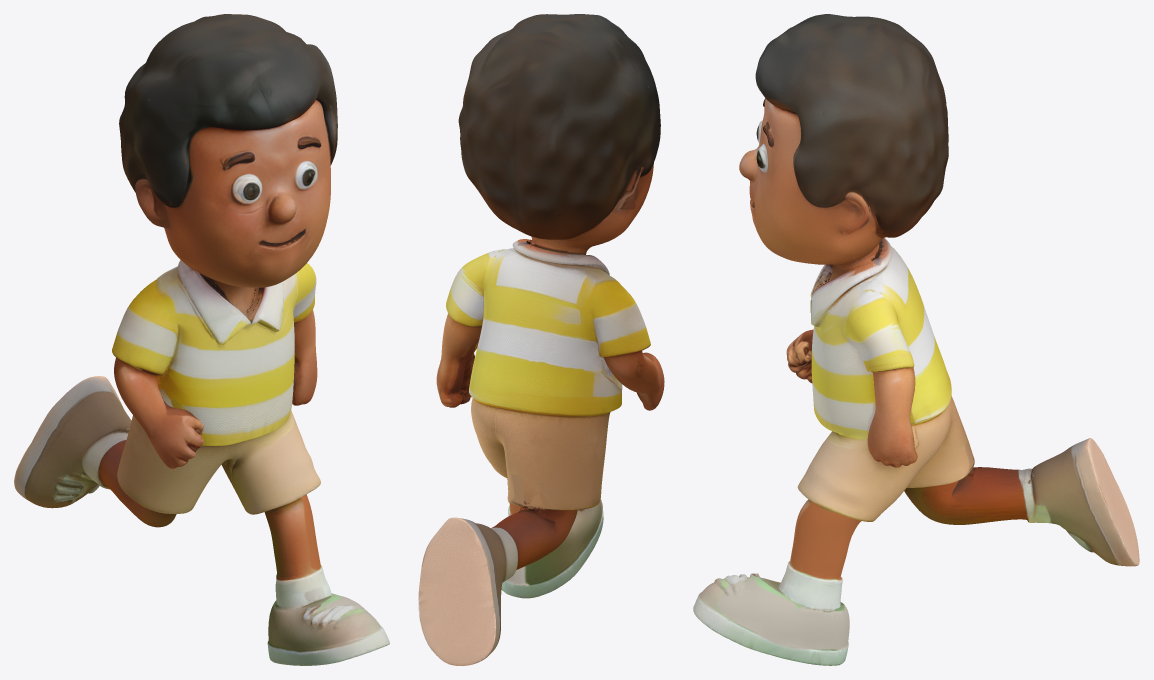
The model's file is NiñoEscuela1.glb.
3 renders of one model, left to right at view 1: azimuth 30°, elevation 25°; view 2: azimuth 150°, elevation 25°; view 3: azimuth 270°, elevation 25°, orthographic. The views are drawn at different scales.
Visible parts, largest first — view 1: model; view 2: model; view 3: model.
Boxes of the visible parts, x1,y1,x2,y2 form: model: (14, 14, 389, 665); model: (418, 14, 664, 665); model: (693, 14, 1139, 665).
Bounding box in the file's own units: 0.6658 × 1.9 × 1.26.
Materials: 1 (1 with a texture image).
